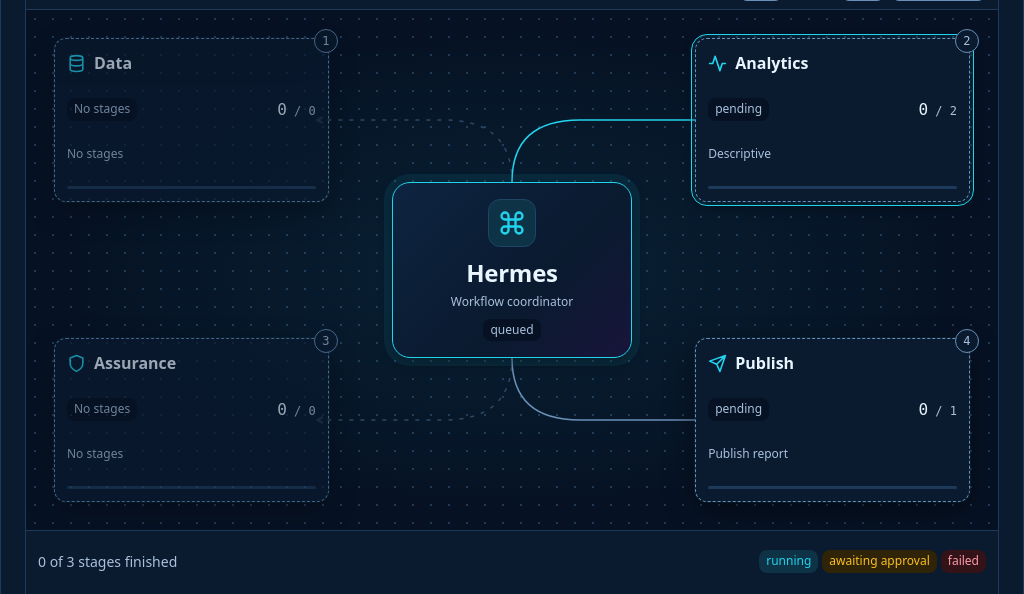
Test: interactive agent observations › selects a configured custom stage, escapes returned content and exposes workflow order
The width and height of the screenshot is (1024, 594).
Click the button "Analytics pending 0 / 2 Descriptive 2" at [772, 63], box [695,38,970,202]
(page scrolled)
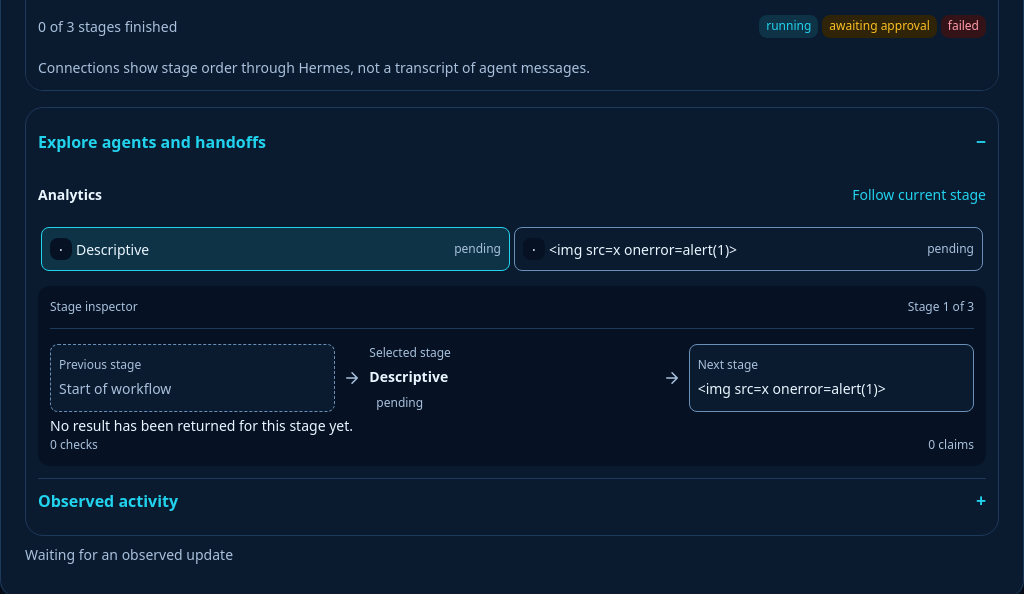
Click the button "· <img src=x onerror=alert(1)> pending" at [643, 249], box [514,227,983,271]
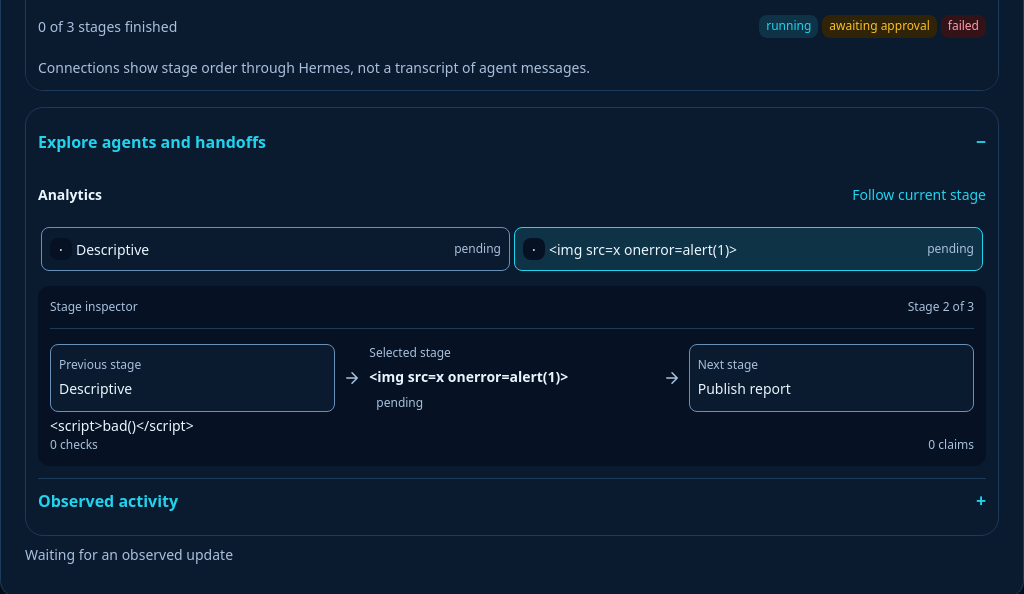
Check: the text "Connections show stage order" is shown, box [38,58,590,77]
Check: the text "<script>bad()</script>" is shown, box [50,416,194,435]
Check: the text "Publish report" below "Selected stage" is shown, box [698,379,791,398]
